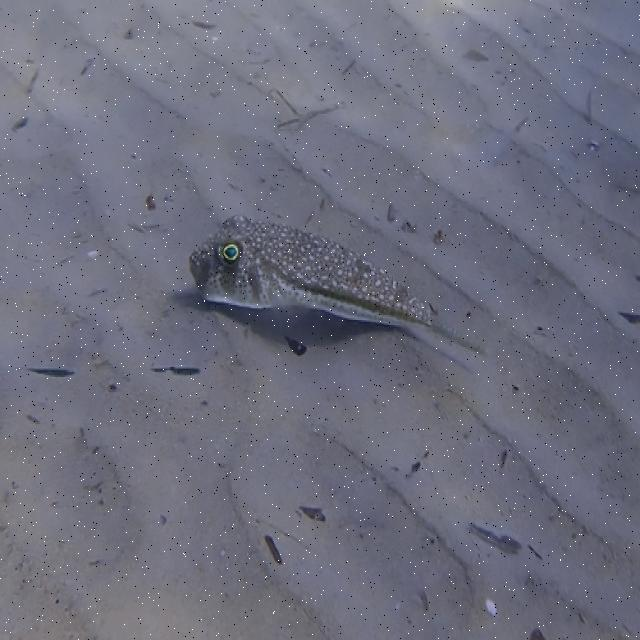Balik: (190, 217, 483, 353)
